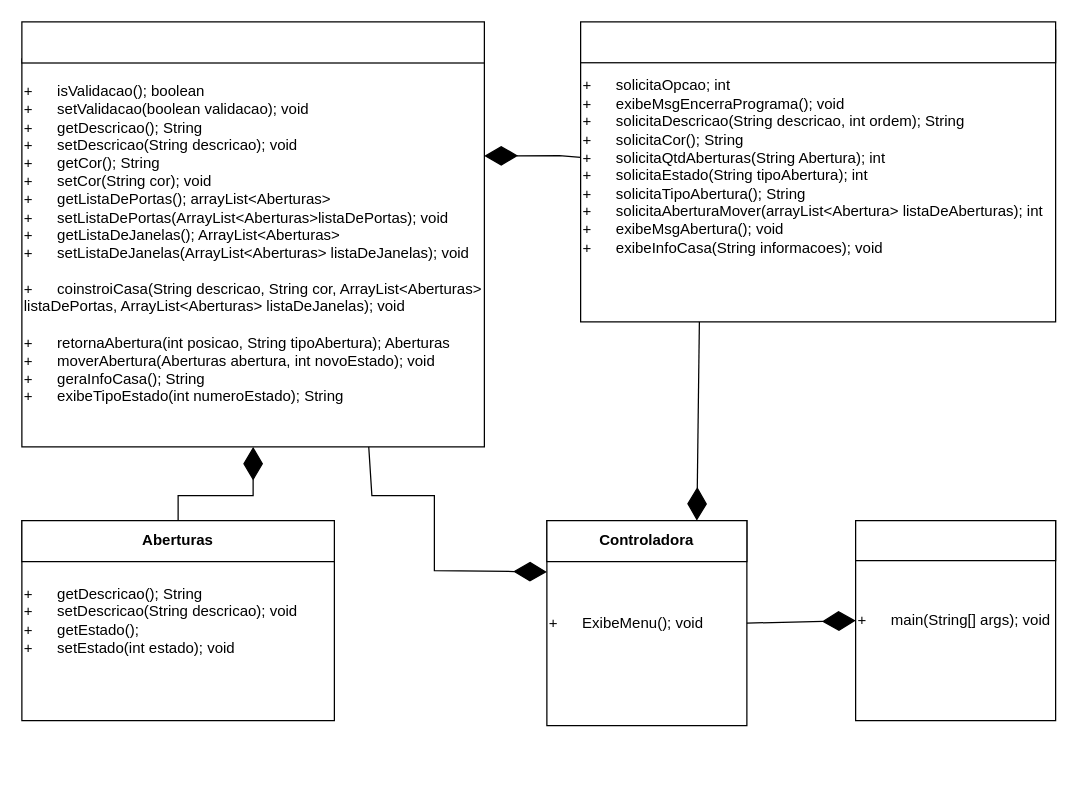
This 1078x793 diagram has some shape labels left out. Each missing label, with the centre of its shape:
Casa: (252,42)
EntradaSaida: (817,42)
Principal: (955,540)
